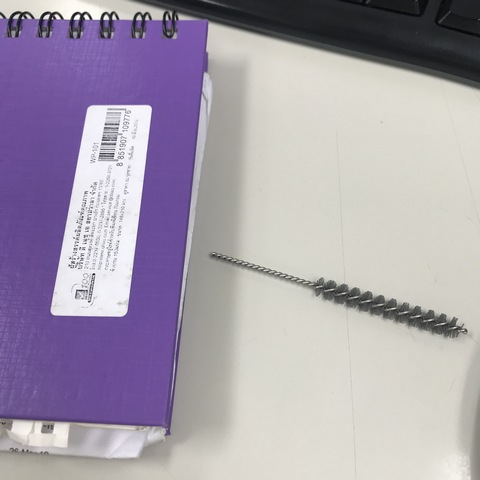Twist Brush-A: (208, 248, 470, 340)
